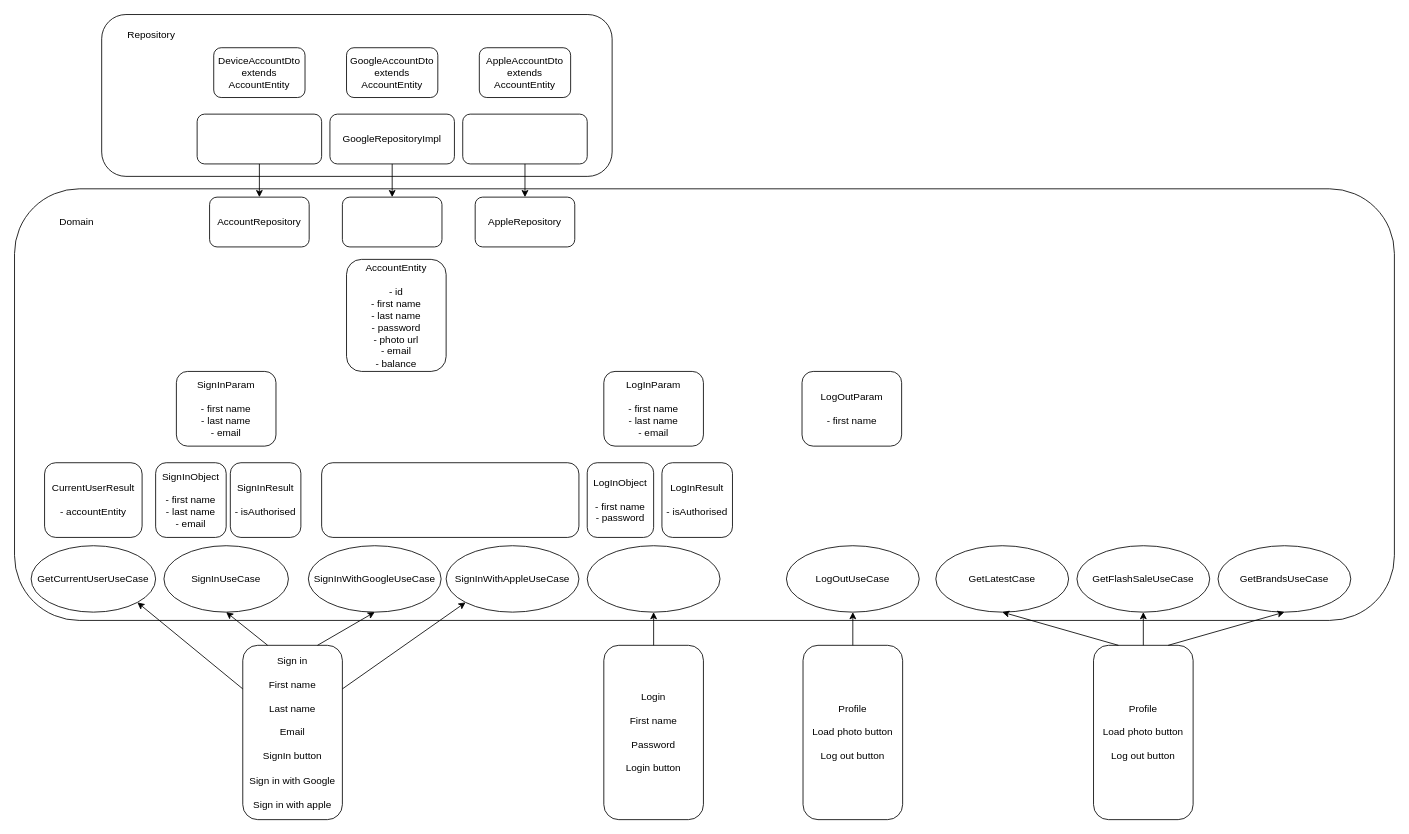
Image size: 1409x834. Some labels were removed from this diagram. Here are the shapes that lost their labels. From the top down, the centre of each, then its label:
[259,138]: AccountsRepositoryImpl
[524,138]: AppleRepositoryImpl
[392,221]: GoogleRepository
[450,499]: AuthorityResult - accountEntity
[653,578]: LoginUseCase
